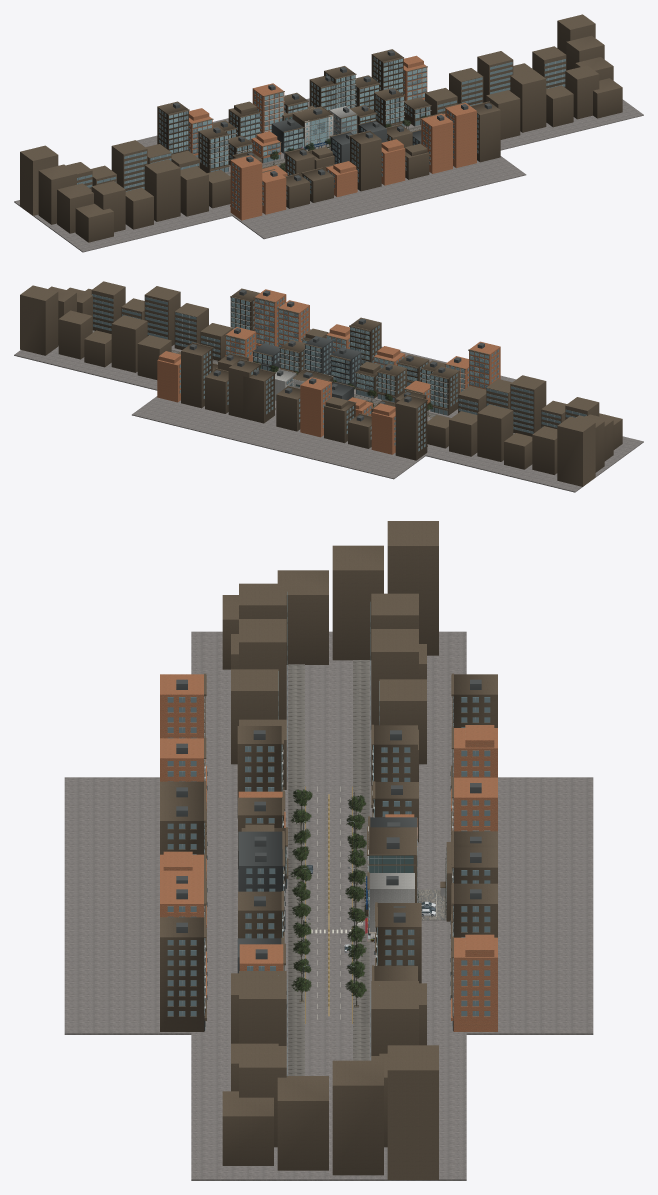
Rendered from street.glb.
The picture shows the model from 3 angles, top to bottom: view 1: azimuth 30°, elevation 25°; view 2: azimuth 150°, elevation 25°; view 3: azimuth 270°, elevation 25°; orthographic projection. The views are drawn at different scales.
Visible parts, largest first — view 1: stone, plaster, asphalt, brick, smoke, glass, charcoal, silver, tile; view 2: stone, plaster, asphalt, brick, smoke, glass, charcoal, silver, tile; view 3: asphalt, stone, plaster, brick, paver, smoke, charcoal, canopy, tile, silver.
Part boxes in pixels (<box>): stone: <box>20,14,622,242</box>; plaster: <box>91,49,573,229</box>; asphalt: <box>14,98,643,252</box>; brick: <box>189,55,476,220</box>; smoke: <box>77,57,565,210</box>; glass: <box>169,58,430,167</box>; charcoal: <box>173,50,491,181</box>; silver: <box>78,59,562,210</box>; tile: <box>329,106,357,134</box>; stone: <box>20,281,622,486</box>; plaster: <box>84,288,566,469</box>; asphalt: <box>14,329,643,492</box>; brick: <box>157,289,500,454</box>; smoke: <box>92,294,586,451</box>; glass: <box>226,297,488,407</box>; charcoal: <box>189,289,484,421</box>; silver: <box>95,295,579,450</box>; tile: <box>275,369,296,400</box>; asphalt: <box>64,631,593,1180</box>; stone: <box>160,521,497,1179</box>; plaster: <box>160,634,497,1091</box>; brick: <box>160,674,497,1031</box>; paver: <box>288,660,369,1075</box>; smoke: <box>167,592,490,1076</box>; charcoal: <box>176,679,481,1031</box>; canopy: <box>290,789,445,997</box>; tile: <box>369,873,414,931</box>; silver: <box>182,696,475,1025</box>.
Size of the model in its own units: 354 by 33.75 by 144.
60 materials, 16 textured.
